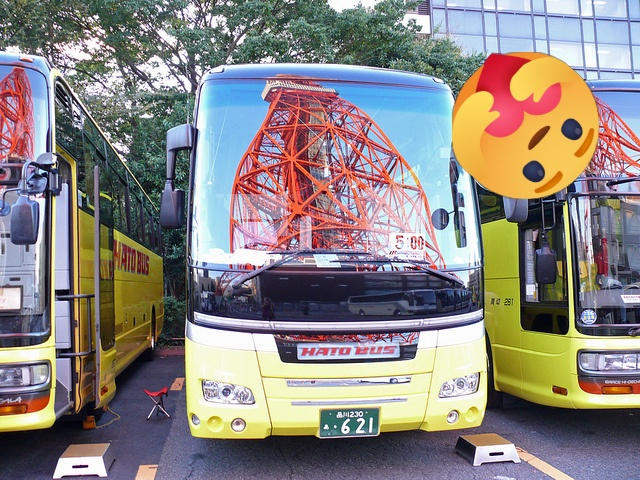care: (452, 52, 599, 199)
